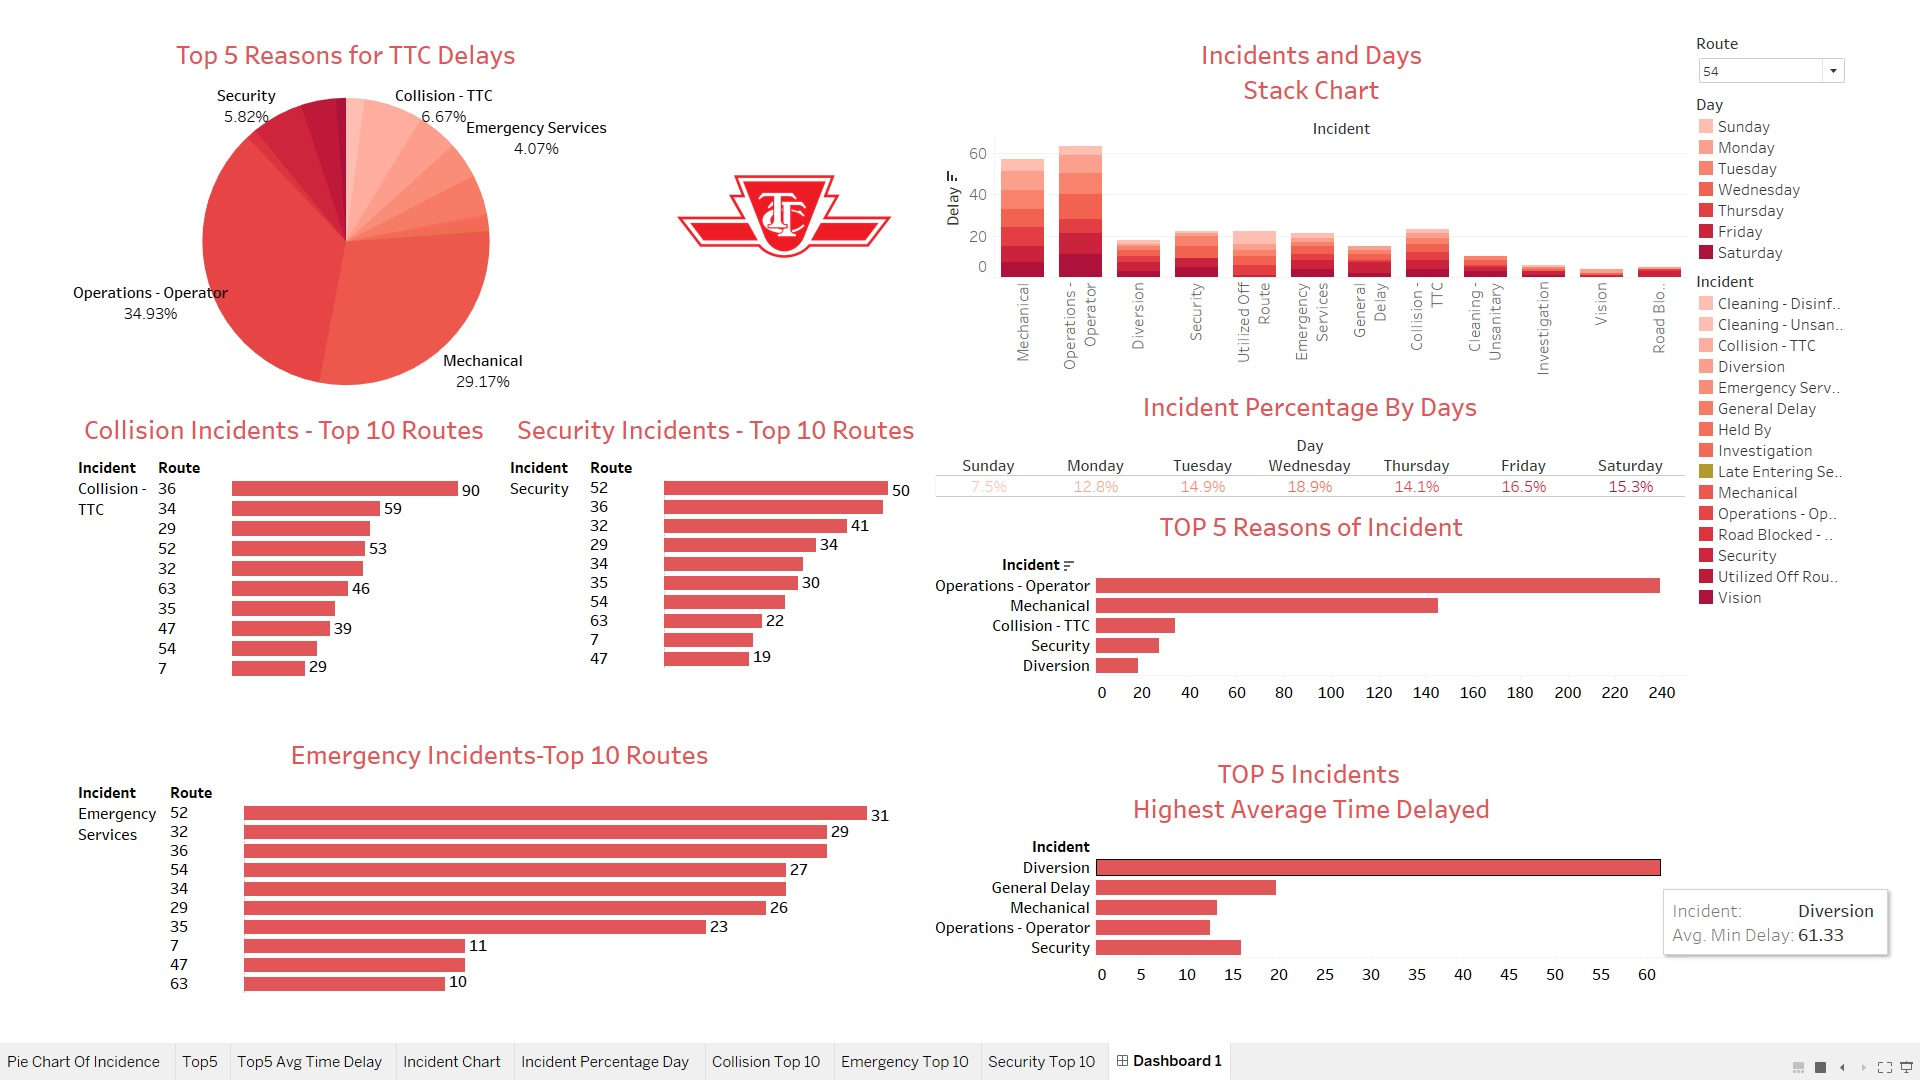

The page's visual inventory and layout, read from the dashboard file:
{"tool":"tableau","page":{"name":"Dashboard 1","canvas":[1800,1000],"ordinal":0},"visuals":[{"type":"worksheet","title":"Pie Chart Of Incidence","mark":"Pie","box":[8,8,569,375]},{"type":"image","param":"Image/g-03-a101-ttc-logo-logo.png","box":[577,8,294,375]},{"type":"worksheet","title":"Incident Chart","mark":"Automatic","rows":["Min Delay"],"cols":["Incident"],"box":[871,8,761,352]},{"type":"filter","title":"Incident Chart","param":"[federated.16opowa1obgr8c16zy2ib0z2z5w8].[none:Route:ok]","box":[1632,8,160,61]},{"type":"legend","title":"Incident Chart","param":"[federated.16opowa1obgr8c16zy2ib0z2z5w8].[none:Day:nk]","box":[1632,69,160,177]},{"type":"legend","title":"Pie Chart Of Incidence","param":"[federated.16opowa1obgr8c16zy2ib0z2z5w8].[none:Incident:nk]","box":[1632,246,160,345]},{"type":"worksheet","title":"Incident Percentage Day","mark":"Automatic","cols":["Day"],"box":[871,360,761,120]},{"type":"worksheet","title":"Collision Top 10","mark":"Bar","rows":["Incident","Route"],"cols":["Min Delay"],"box":[8,383,431.5,325]},{"type":"worksheet","title":"Security Top 10","mark":"Automatic","rows":["Incident","Route"],"cols":["Min Delay"],"box":[439.5,383,431.5,325]},{"type":"worksheet","title":"Top5 ","mark":"Automatic","rows":["Incident"],"cols":["Min Delay"],"box":[871,480,761,247]},{"type":"worksheet","title":"Emergency Top 10","mark":"Automatic","rows":["Incident","Route"],"cols":["Min Delay"],"box":[8,708,863,284]},{"type":"worksheet","title":"Top5 Avg Time Delay","mark":"Automatic","rows":["Incident"],"cols":["Min Delay"],"box":[871,727,761,265]}]}

Visuals, with their boxes on the page's 1800x1000 design canvas (x1, y1, x2, y2). These are canvas units, not pixel positions in the 1920x1080 screenshot, which may show the page scaled, cropped or inside an application window:
"Pie Chart Of Incidence" worksheet (Pie marks): x1=8, y1=8, x2=577, y2=383
image: x1=577, y1=8, x2=871, y2=383
"Incident Chart" worksheet: x1=871, y1=8, x2=1632, y2=360
"Incident Chart" filter: x1=1632, y1=8, x2=1792, y2=69
"Incident Chart" legend: x1=1632, y1=69, x2=1792, y2=246
"Pie Chart Of Incidence" legend: x1=1632, y1=246, x2=1792, y2=591
"Incident Percentage Day" worksheet: x1=871, y1=360, x2=1632, y2=480
"Collision Top 10" worksheet (Bar marks): x1=8, y1=383, x2=440, y2=708
"Security Top 10" worksheet: x1=440, y1=383, x2=871, y2=708
"Top5 " worksheet: x1=871, y1=480, x2=1632, y2=727
"Emergency Top 10" worksheet: x1=8, y1=708, x2=871, y2=992
"Top5 Avg Time Delay" worksheet: x1=871, y1=727, x2=1632, y2=992
